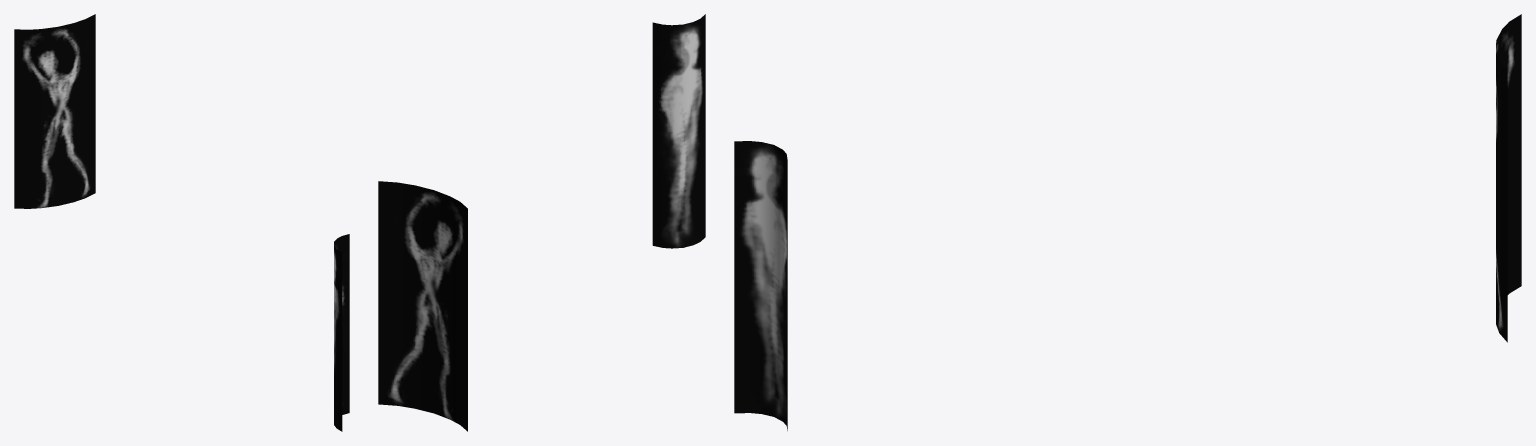
File: SM_Level_Circus_Silhouette_00.fbx
3 renders of one model, left to right at view 1: azimuth 30°, elevation 25°; view 2: azimuth 150°, elevation 25°; view 3: azimuth 270°, elevation 25°, orthographic. The views are drawn at different scales.
Visible parts, largest first — view 1: SM_Level_Circus_Silhouette_00; view 2: SM_Level_Circus_Silhouette_00; view 3: SM_Level_Circus_Silhouette_00.
Boxes of the visible parts, x1,y1,x2,y2 form: SM_Level_Circus_Silhouette_00: [14, 14, 349, 431]; SM_Level_Circus_Silhouette_00: [378, 14, 705, 431]; SM_Level_Circus_Silhouette_00: [734, 14, 1521, 430].
Size of the model in its own units: 209 by 489 by 1000.
